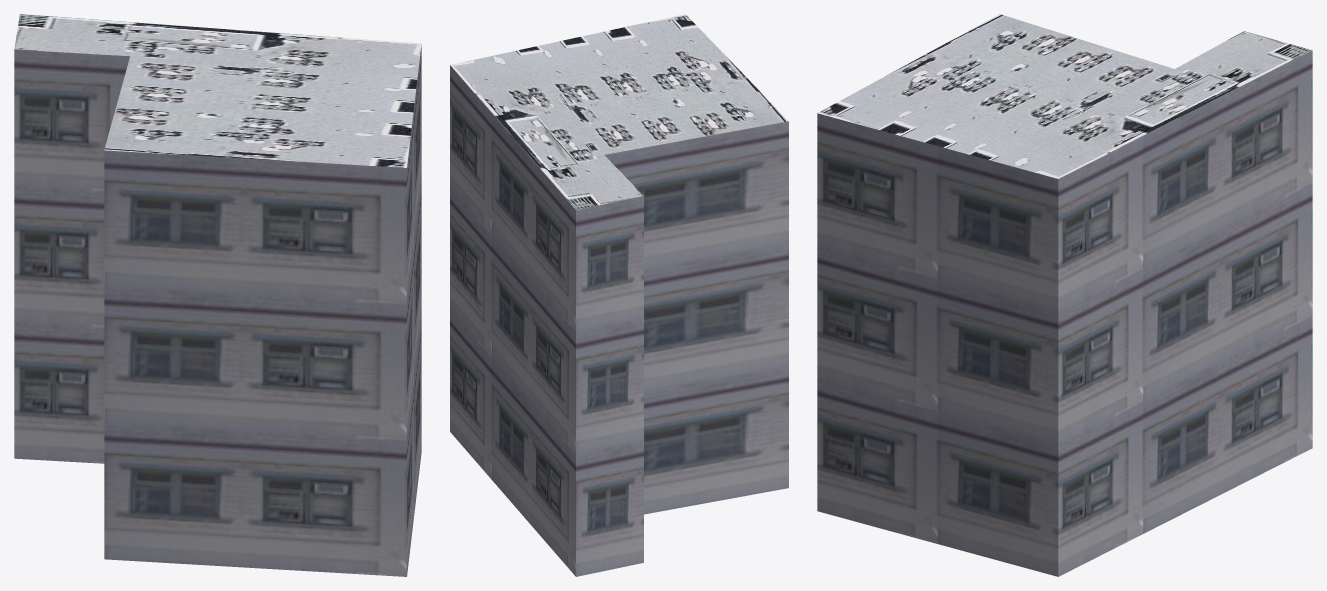
The model's file is ResTex__4910.fbx.
3 views of the same model, side by side, from view 1: azimuth 30°, elevation 25°; view 2: azimuth 150°, elevation 25°; view 3: azimuth 270°, elevation 25° (orthographic). The views are drawn at different scales.
Parts seen in each view (by area): view 1: CityEngineMaterial_1_m, CityEngineMaterial_4_m; view 2: CityEngineMaterial_1_m, CityEngineMaterial_4_m; view 3: CityEngineMaterial_1_m, CityEngineMaterial_4_m.
Boxes of the visible parts, x1,y1,x2,y2 form: CityEngineMaterial_1_m: (14, 45, 421, 576); CityEngineMaterial_4_m: (14, 14, 421, 167); CityEngineMaterial_1_m: (450, 65, 788, 576); CityEngineMaterial_4_m: (450, 14, 788, 209); CityEngineMaterial_1_m: (817, 50, 1312, 576); CityEngineMaterial_4_m: (817, 14, 1312, 178).
Bounding box in the file's own units: 8 × 9 × 10.15.
2 materials, 2 textured.
